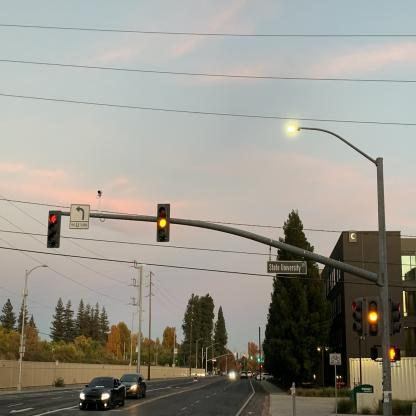left-red: (48, 210, 60, 248)
yellow: (368, 297, 379, 336), (158, 204, 169, 240)
